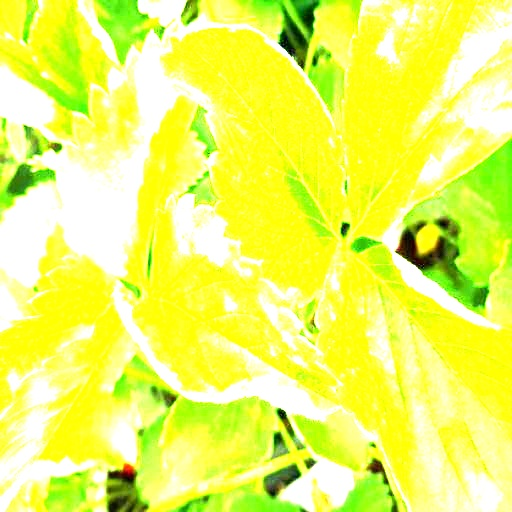Powdery Mildew Leaf: (155, 23, 353, 313), (313, 242, 511, 511), (113, 193, 345, 422), (341, 0, 511, 243), (0, 251, 143, 511)
